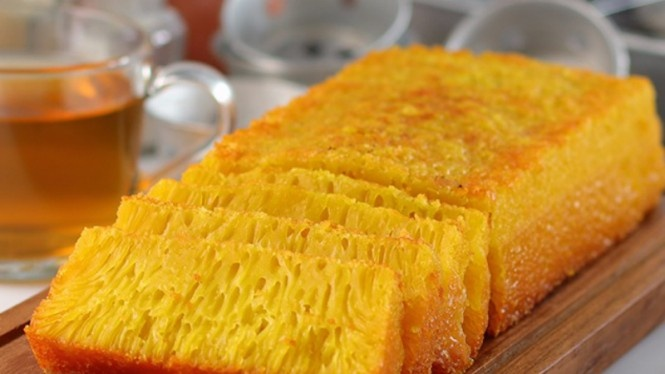bika_ambon: (57, 160, 469, 359)
